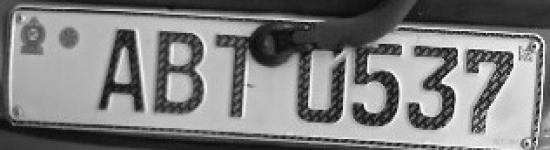0: (297, 38, 348, 129)
3: (406, 39, 462, 140)
5: (351, 40, 404, 130)
7: (465, 44, 519, 140)
A: (92, 21, 149, 120)
B: (153, 22, 209, 122)
T: (213, 30, 262, 121)
